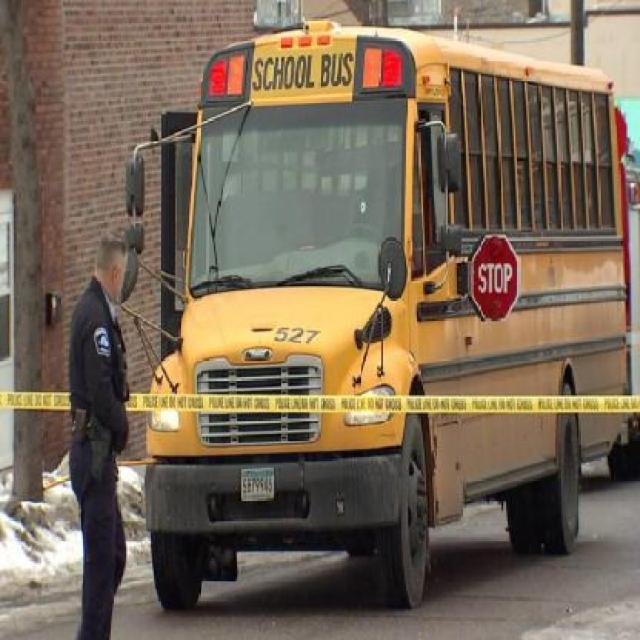bus: (144, 24, 632, 614)
